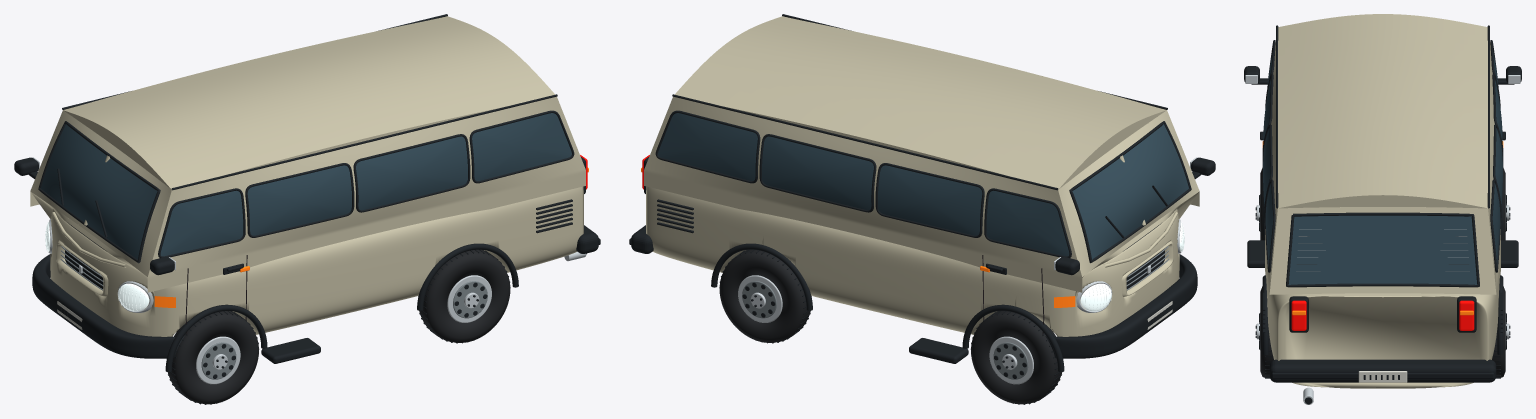
The model's file is bukhanka.glb.
3 renders of one model, left to right at view 1: azimuth 30°, elevation 25°; view 2: azimuth 150°, elevation 25°; view 3: azimuth 270°, elevation 25°, orthographic. The views are drawn at different scales.
Parts seen in each view (by area): view 1: Body_Paint_bukhanka, Body_Curved smoked glass.012, Body_Black trim.012, Wheel_RR_Tyre.012, Wheel_FR_Tyre.012, StockBumpers_Black trim.012, StockFenders_Black trim.012, Wheel_FR_Machined aluminium.012, Wheel_RR_Machined aluminium.012, Body_Prismatic headlight glass.012, Wheel_RR_Brake steel.012, Wheel_FR_Brake steel.012 (+1 smaller); view 2: Body_Paint_bukhanka, Body_Curved smoked glass.012, Body_Black trim.012, Wheel_RL_Tyre.012, Wheel_FL_Tyre.012, StockBumpers_Black trim.012, StockFenders_Black trim.012, Wheel_FL_Machined aluminium.012, Wheel_RL_Machined aluminium.012, Body_Prismatic headlight glass.012, Wheel_RL_Brake steel.012, Wheel_FL_Brake steel.012; view 3: Body_Paint_bukhanka, Body_Curved smoked glass.012, Body_Black trim.012, StockBumpers_Black trim.012, StockFenders_Black trim.012, Body_Red lens.012, Body_Numberplate.012, Wheel_RR_Tyre.012, Wheel_RL_Tyre.012, Body_Machined aluminium.012, Body_Brake steel.012.
Part boxes in pixels (x1,y1,x2,y2): Body_Paint_bukhanka: (30,16,585,336); Body_Curved smoked glass.012: (40,113,571,259); Body_Black trim.012: (14,14,586,363); Wheel_RR_Tyre.012: (418,249,510,342); Wheel_FR_Tyre.012: (167,311,258,404); StockBumpers_Black trim.012: (32,225,600,358); StockFenders_Black trim.012: (165,243,518,372); Wheel_FR_Machined aluminium.012: (196,336,240,384); Wheel_RR_Machined aluminium.012: (447,275,491,322); Body_Prismatic headlight glass.012: (45,222,149,311); Wheel_RR_Brake steel.012: (453,281,487,318); Wheel_FR_Brake steel.012: (201,342,236,379); Body_Paint_bukhanka: (644,16,1199,336); Body_Curved smoked glass.012: (658,113,1188,259); Body_Black trim.012: (644,14,1215,363); Wheel_RL_Tyre.012: (719,249,811,342); Wheel_FL_Tyre.012: (971,311,1062,404); StockBumpers_Black trim.012: (629,225,1197,358); StockFenders_Black trim.012: (711,243,1064,372); Wheel_FL_Machined aluminium.012: (989,336,1033,384); Wheel_RL_Machined aluminium.012: (738,275,782,322); Body_Prismatic headlight glass.012: (1080,222,1184,311); Wheel_RL_Brake steel.012: (742,281,776,318); Wheel_FL_Brake steel.012: (993,342,1028,379); Body_Paint_bukhanka: (1265,14,1500,388); Body_Curved smoked glass.012: (1263,52,1502,284); Body_Black trim.012: (1244,25,1521,404); StockBumpers_Black trim.012: (1269,359,1496,382); StockFenders_Black trim.012: (1262,164,1503,355); Body_Red lens.012: (1291,300,1474,330); Body_Numberplate.012: (1358,371,1407,382); Wheel_RR_Tyre.012: (1260,286,1273,377); Wheel_RL_Tyre.012: (1492,286,1505,377); Body_Machined aluminium.012: (1245,75,1520,404); Body_Brake steel.012: (1296,229,1469,271).
Size of the model in its own units: 4.37 by 2.07 by 2.28.
